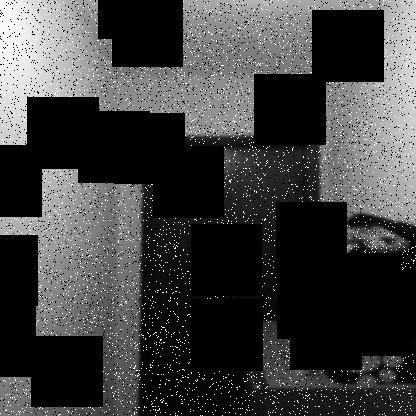Porte: (137, 135, 323, 415)
